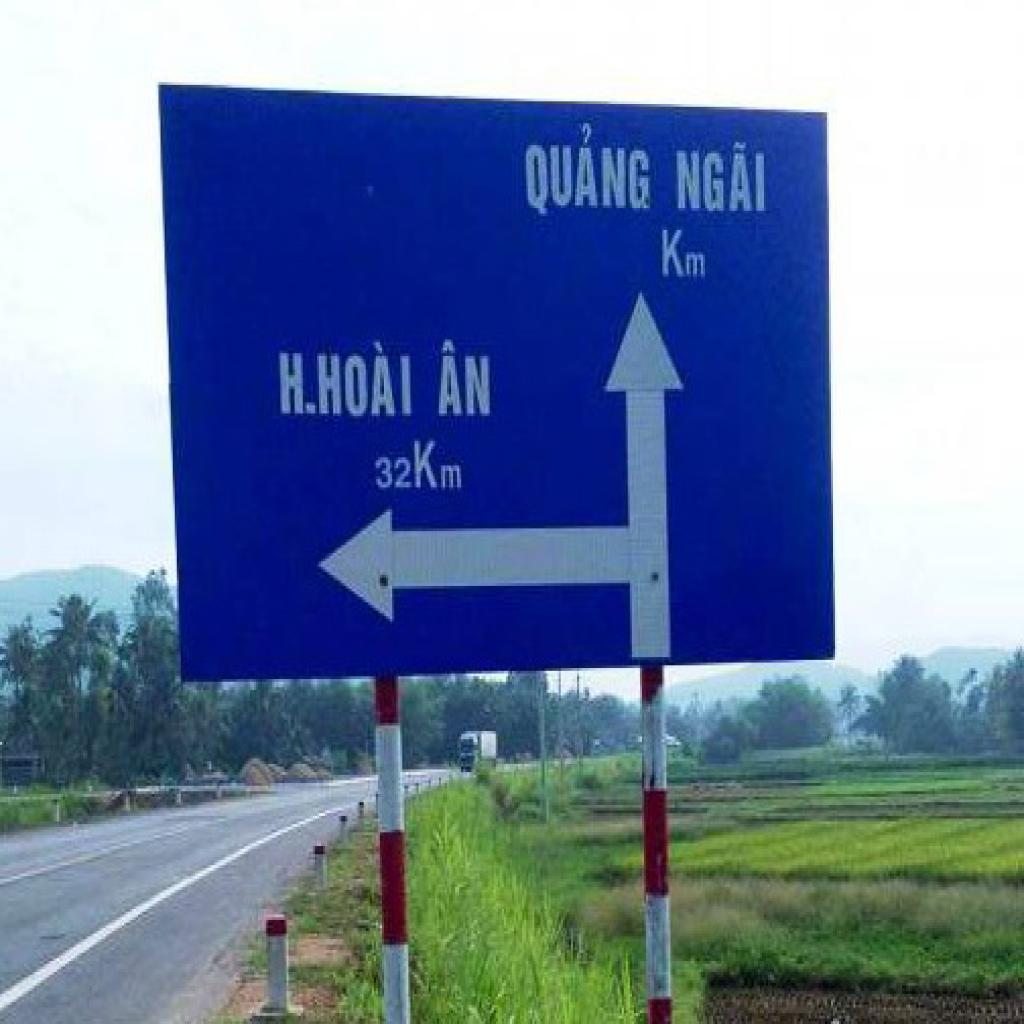text: (520, 120, 652, 216), (280, 339, 414, 419), (675, 134, 770, 216), (435, 334, 494, 416), (660, 224, 709, 280)
